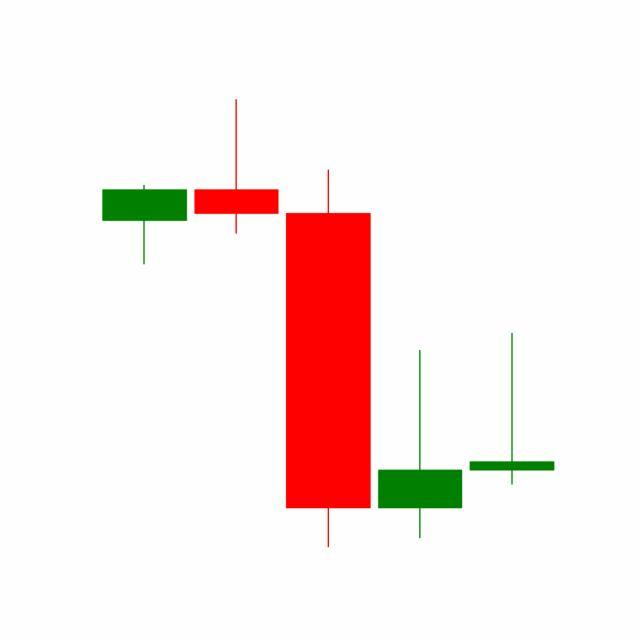Gravestone Doji: (466, 331, 559, 487)
